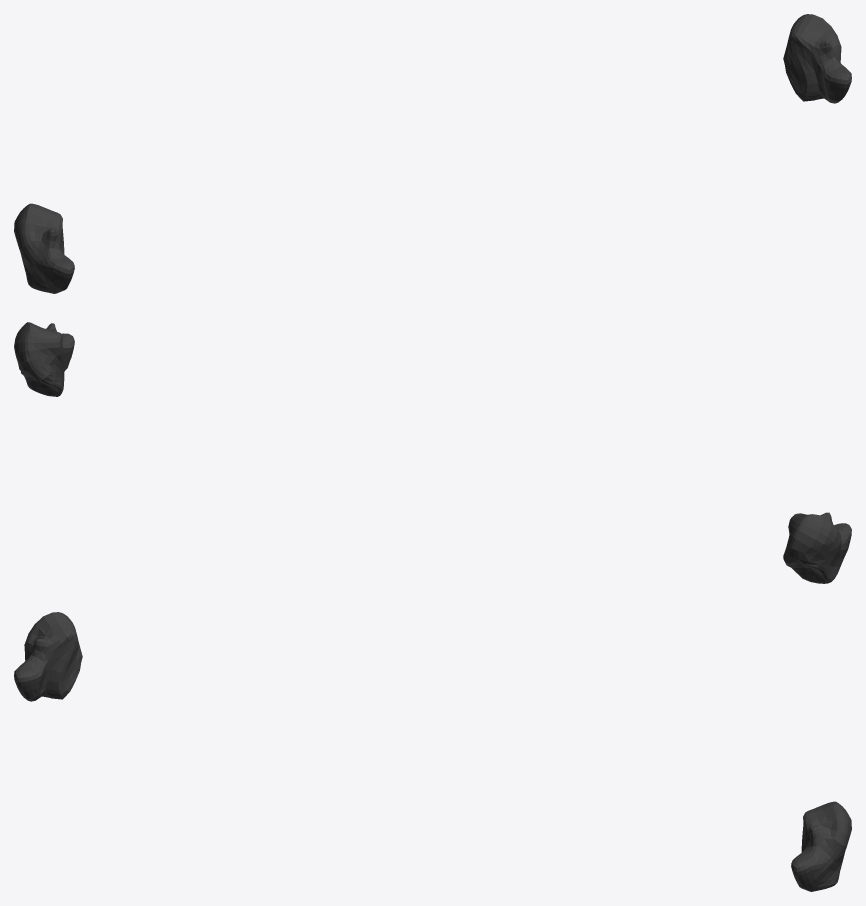
Rendered from b_fibula_HL_L_LO.glb.
3 views of the same model, one above another, from view 1: azimuth 30°, elevation 25°; view 2: azimuth 150°, elevation 25°; view 3: azimuth 330°, elevation 25° (orthographic).
Visible parts, largest first — view 1: b_fibula_HL_L_LO; view 2: b_fibula_HL_L_LO; view 3: b_fibula_HL_L_LO.
Part boxes in pixels (x1,y1,x2,y2): b_fibula_HL_L_LO: (14, 14, 851, 293); b_fibula_HL_L_LO: (14, 322, 851, 583); b_fibula_HL_L_LO: (14, 612, 851, 891).
Bounding box in the file's own units: 0.00394 × 0.000349 × 0.000414.
Materials: 1 (1 with a texture image).
